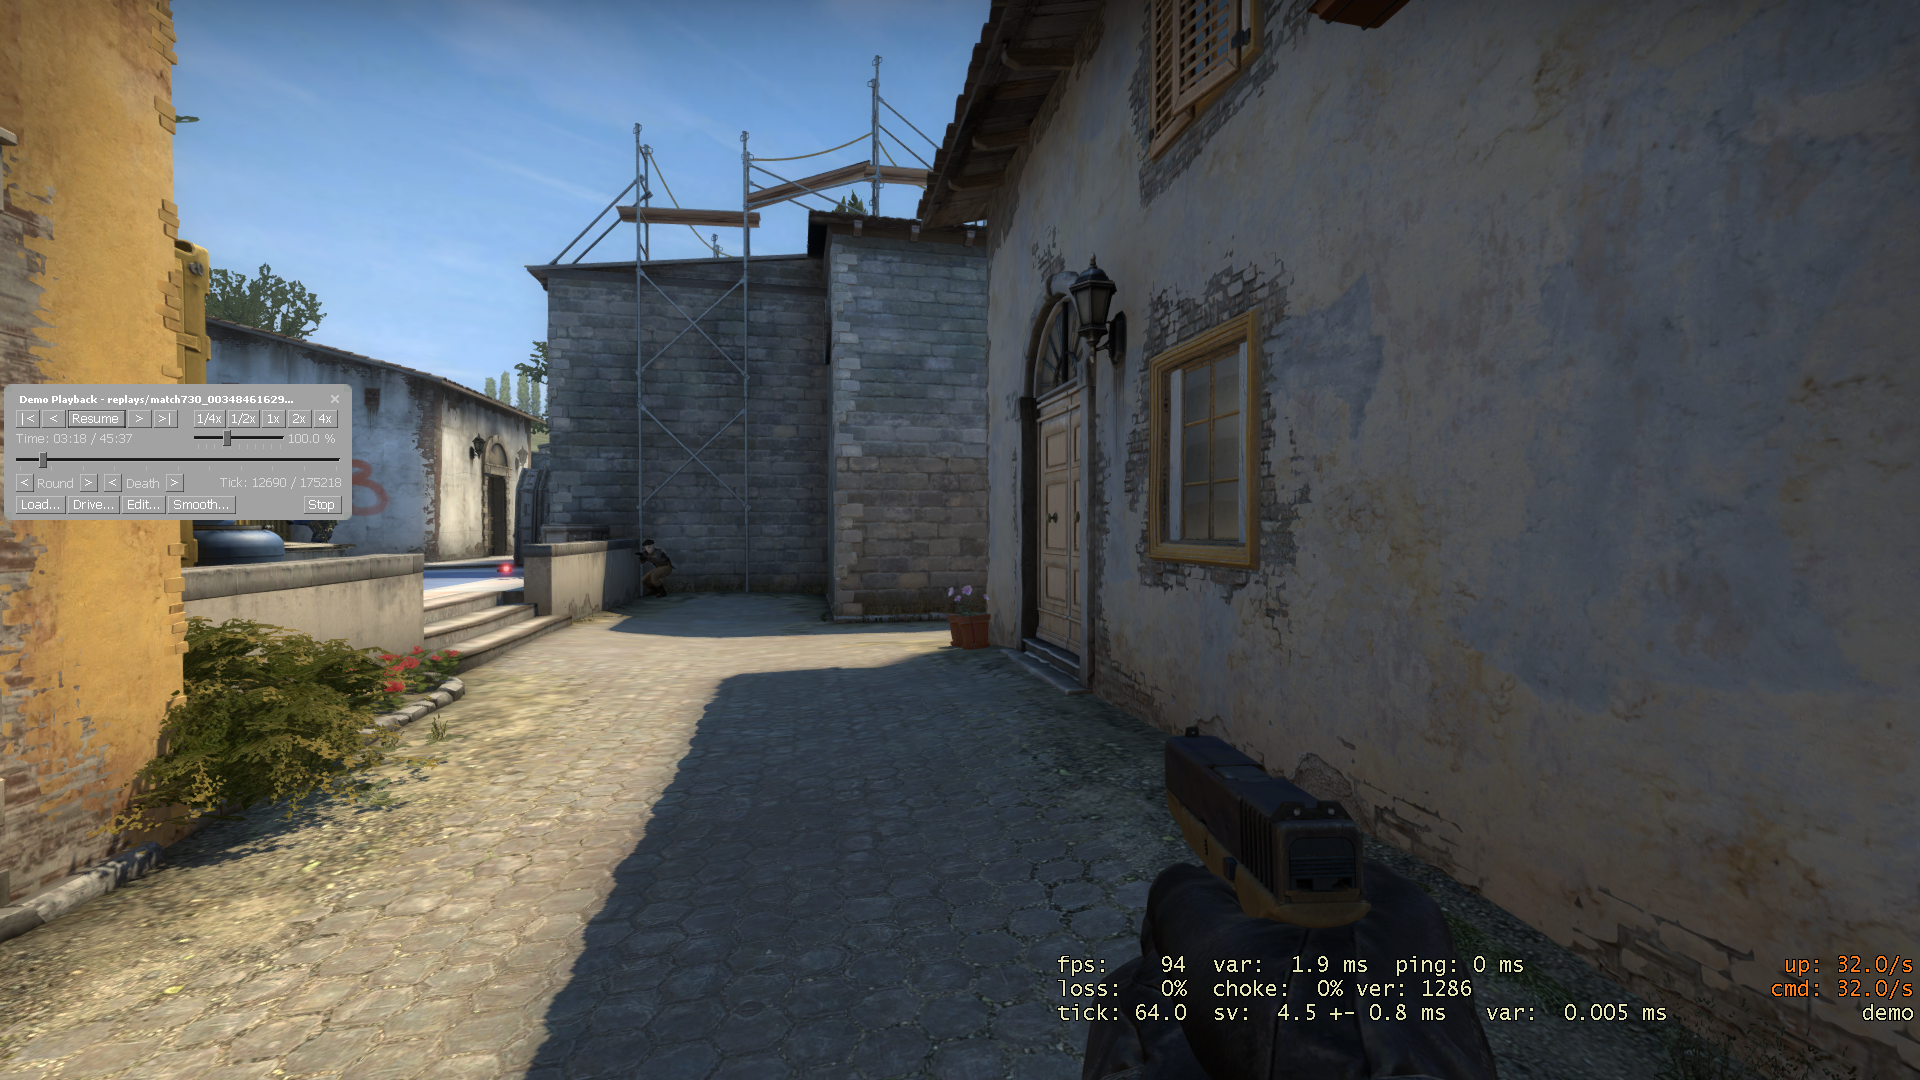t: (636, 541, 673, 599)
